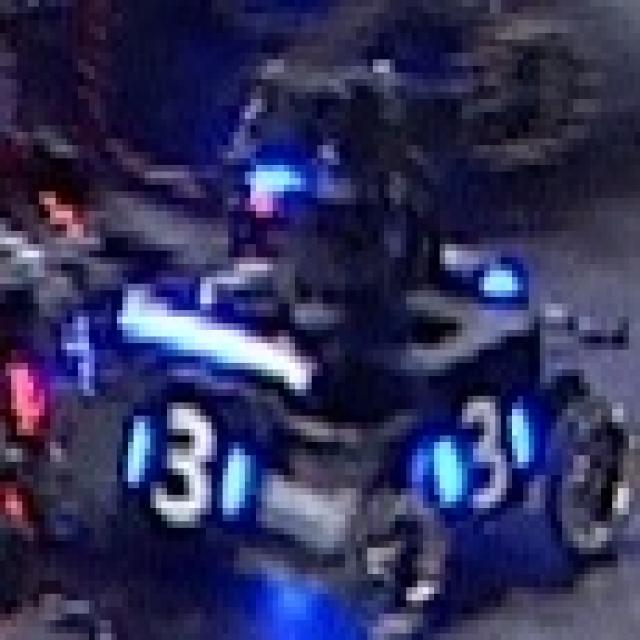B3: (117, 396, 256, 528), (434, 389, 534, 508)
